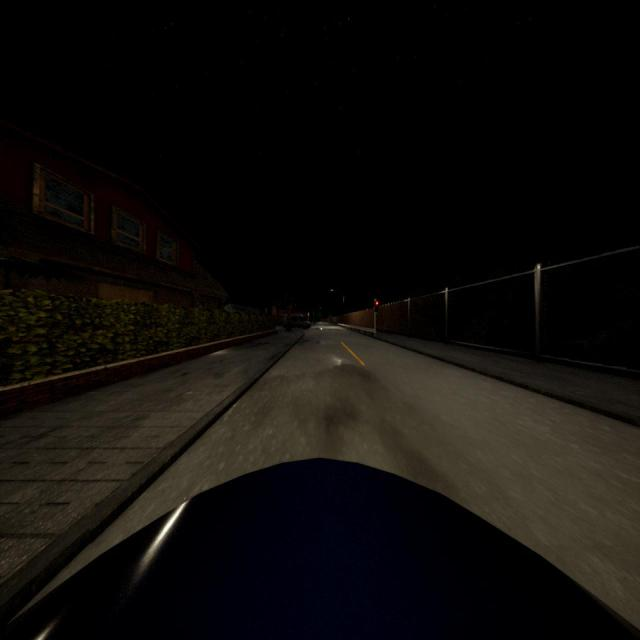Vehicle: (0, 455, 640, 640), (282, 314, 311, 329)
traffic_light: (374, 301, 378, 313)
